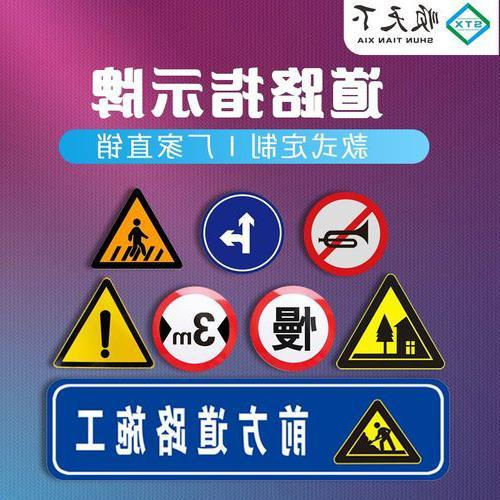sign: (53, 381, 446, 479)
